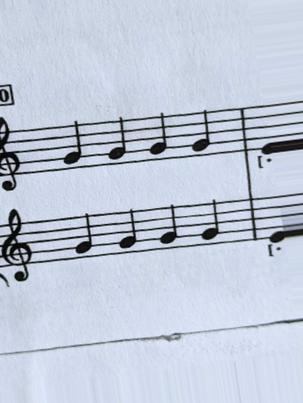G: (56, 120, 89, 167), (102, 119, 135, 166), (184, 111, 218, 154), (145, 115, 175, 163), (154, 202, 184, 250), (194, 201, 228, 242), (112, 207, 141, 253), (68, 215, 99, 258)
